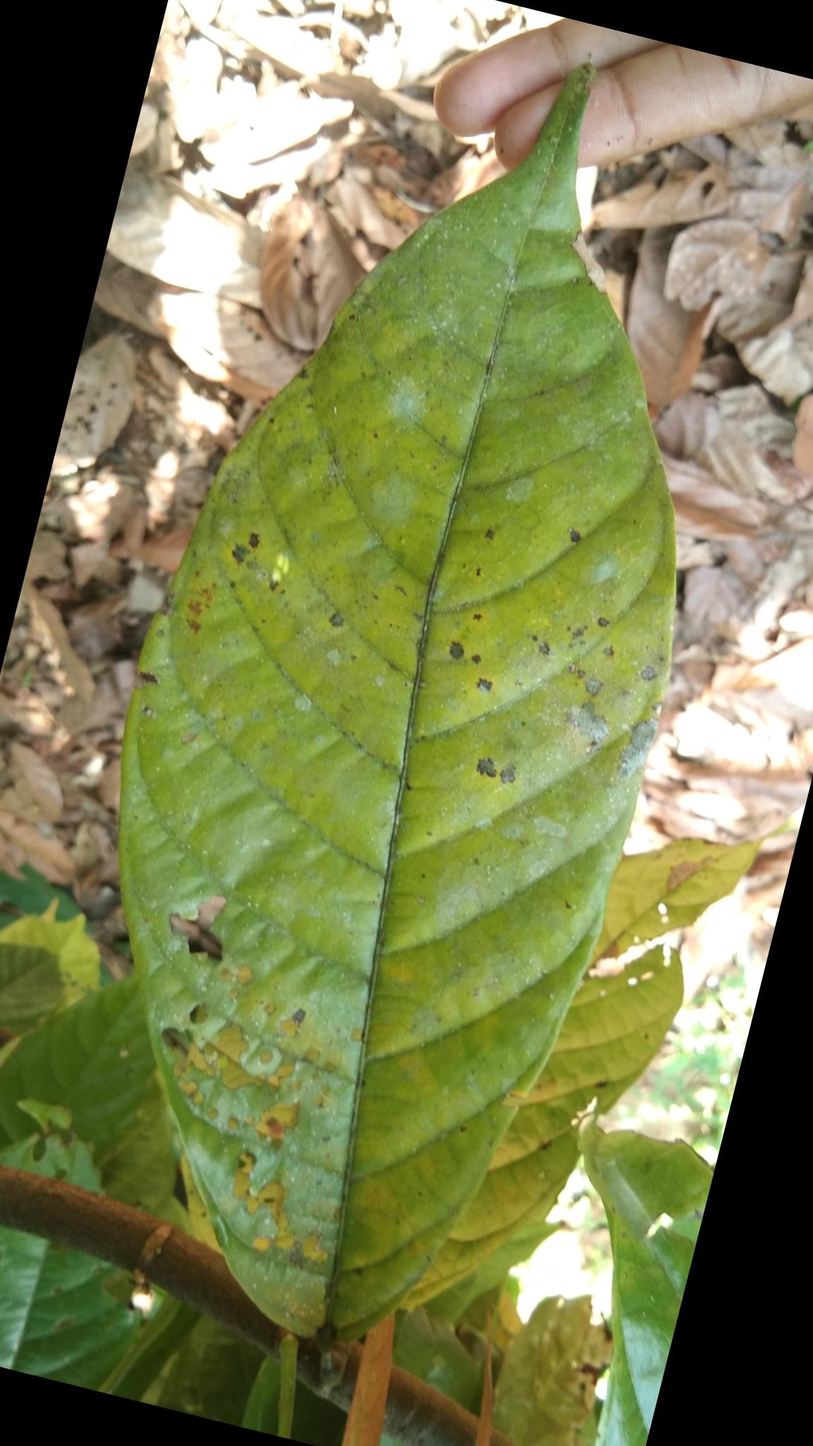Fosforo: (81, 47, 694, 1381)
